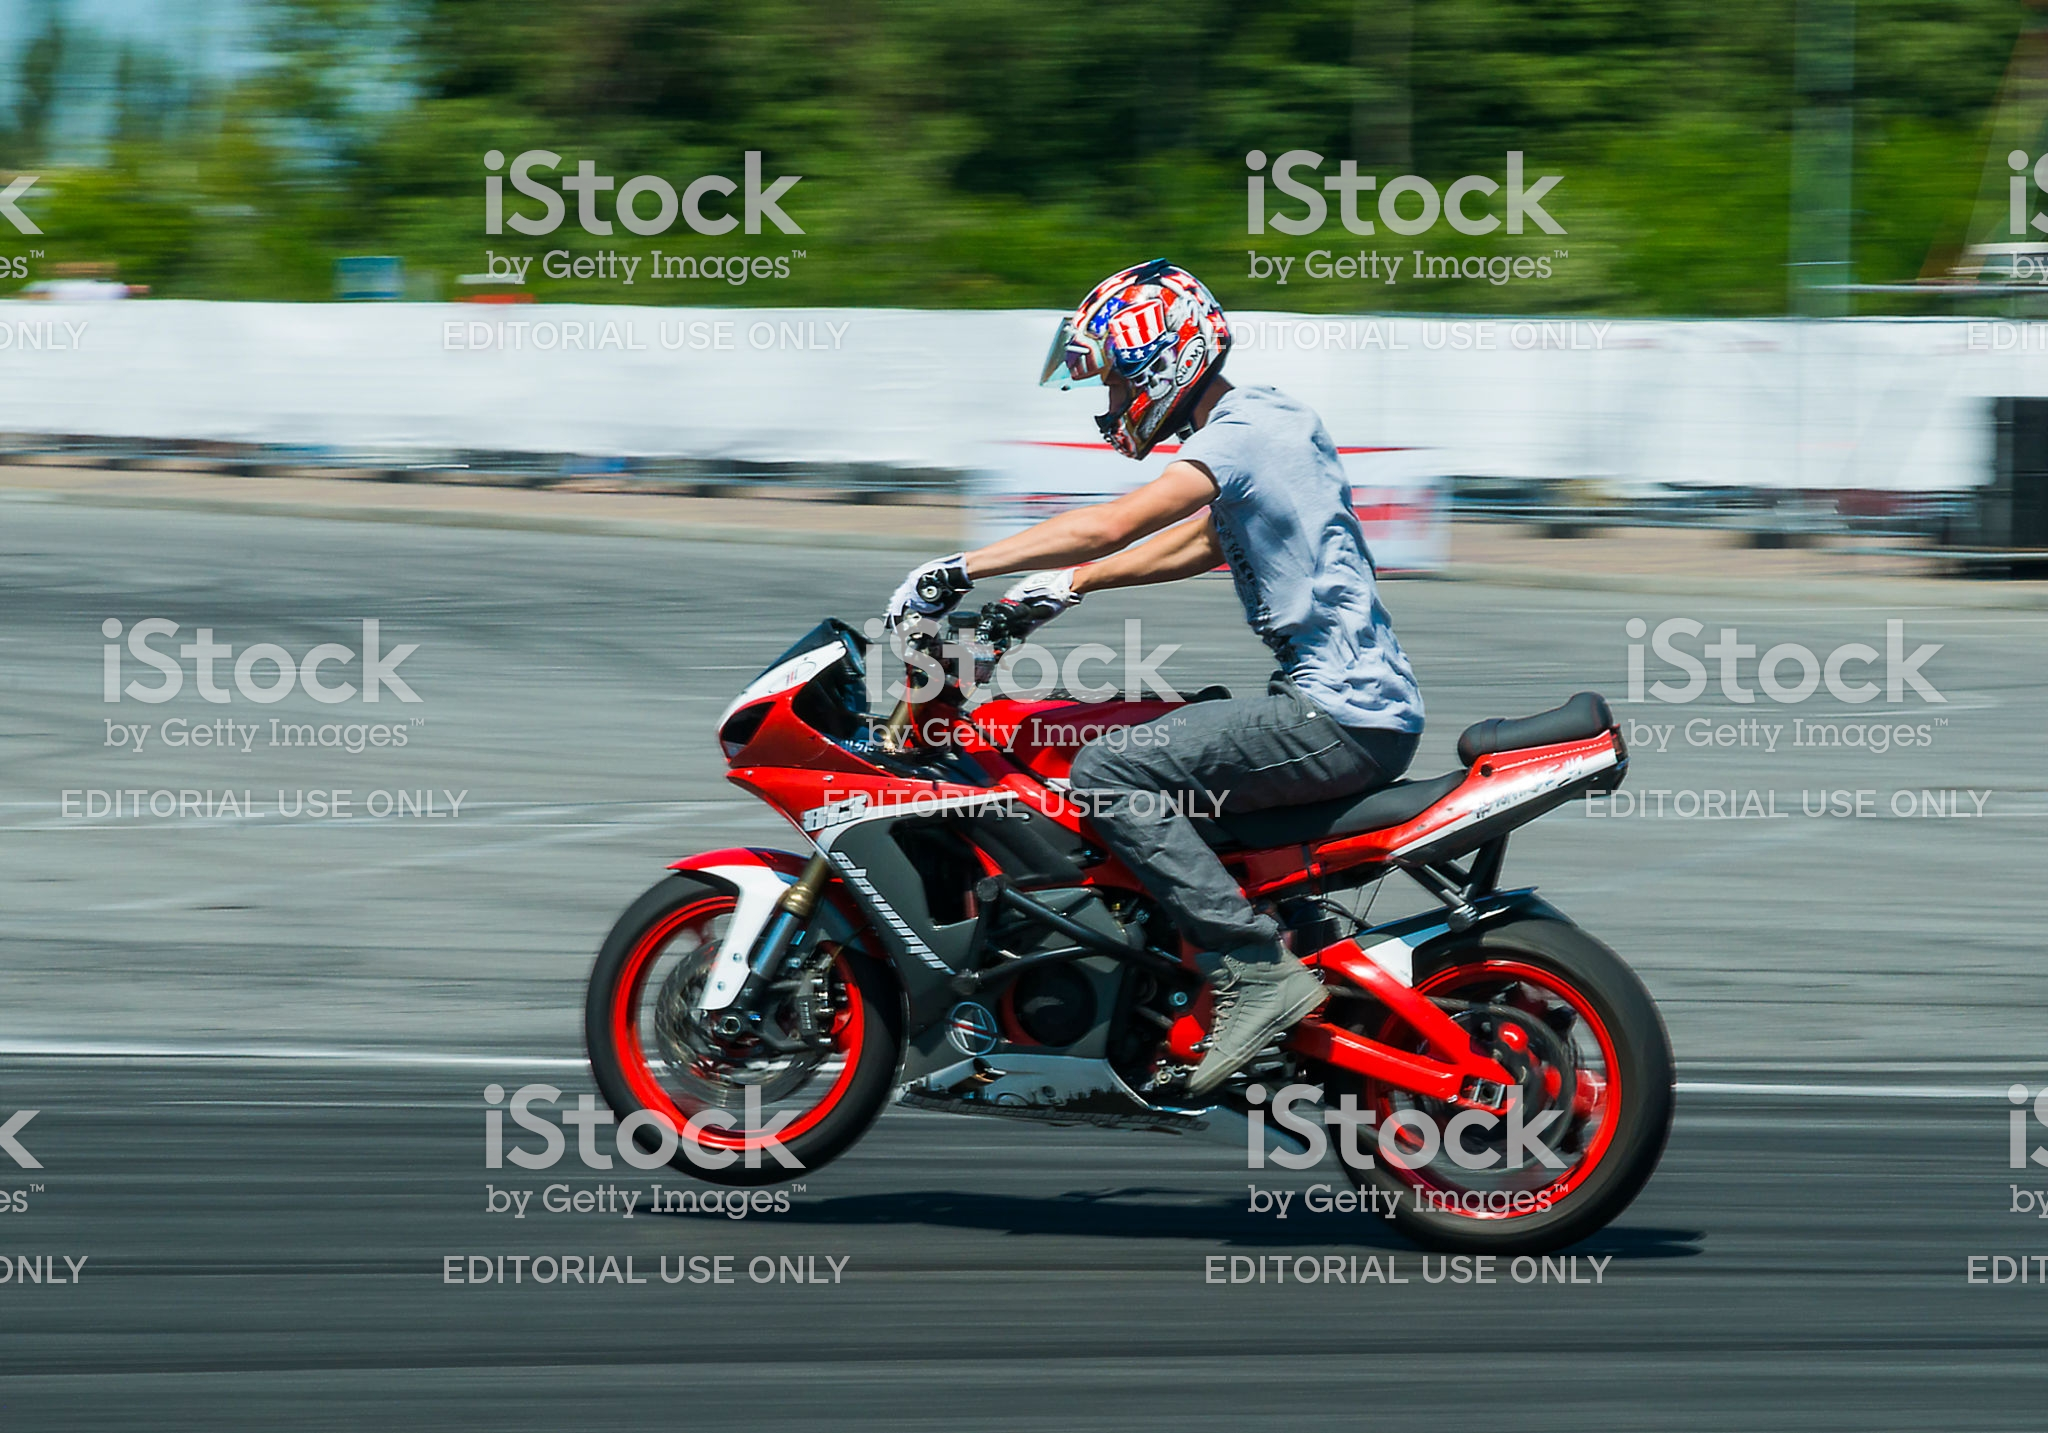helmet: (1052, 271, 1243, 447)
